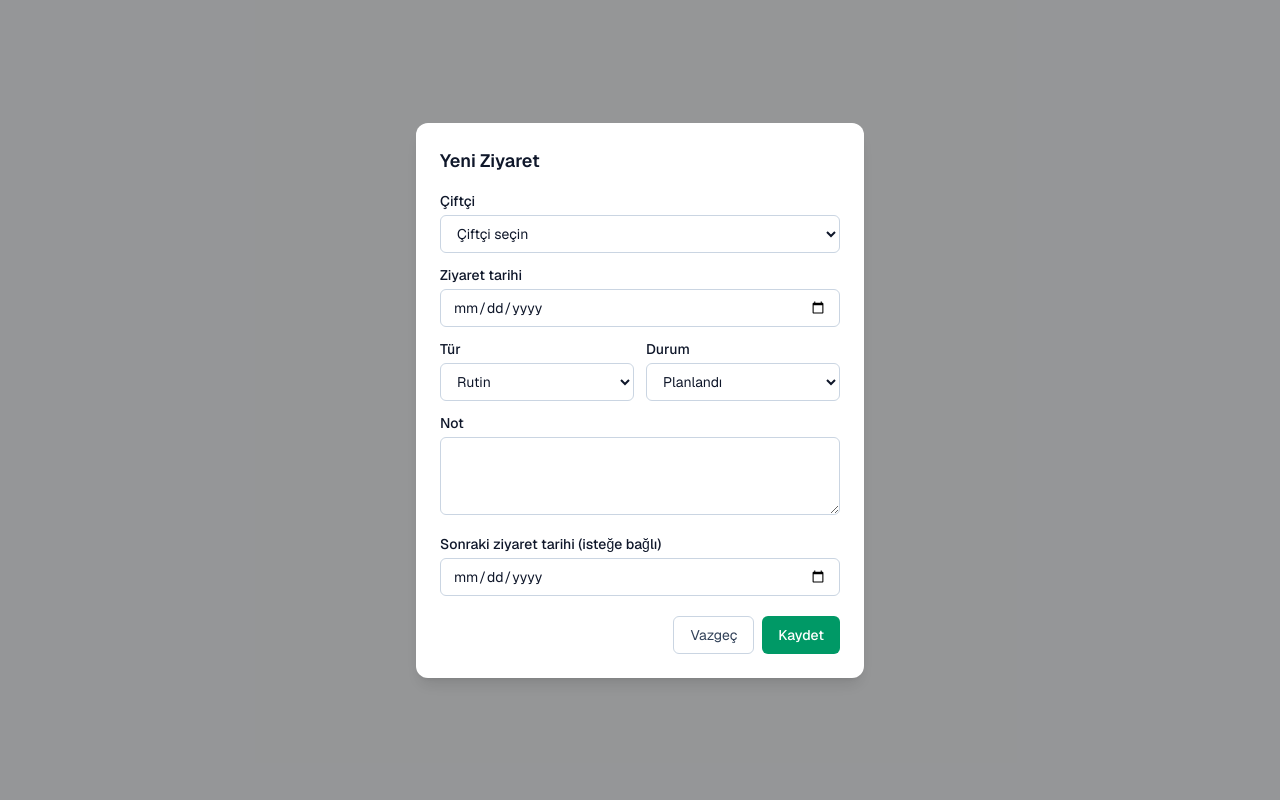
Scenario: VisitFormModal › gecmis tarihli planli ziyareti reddeder
In the date field labelled "Ziyaret tarihi": (640,308) [440,288,840,326], type "2020-01-01"
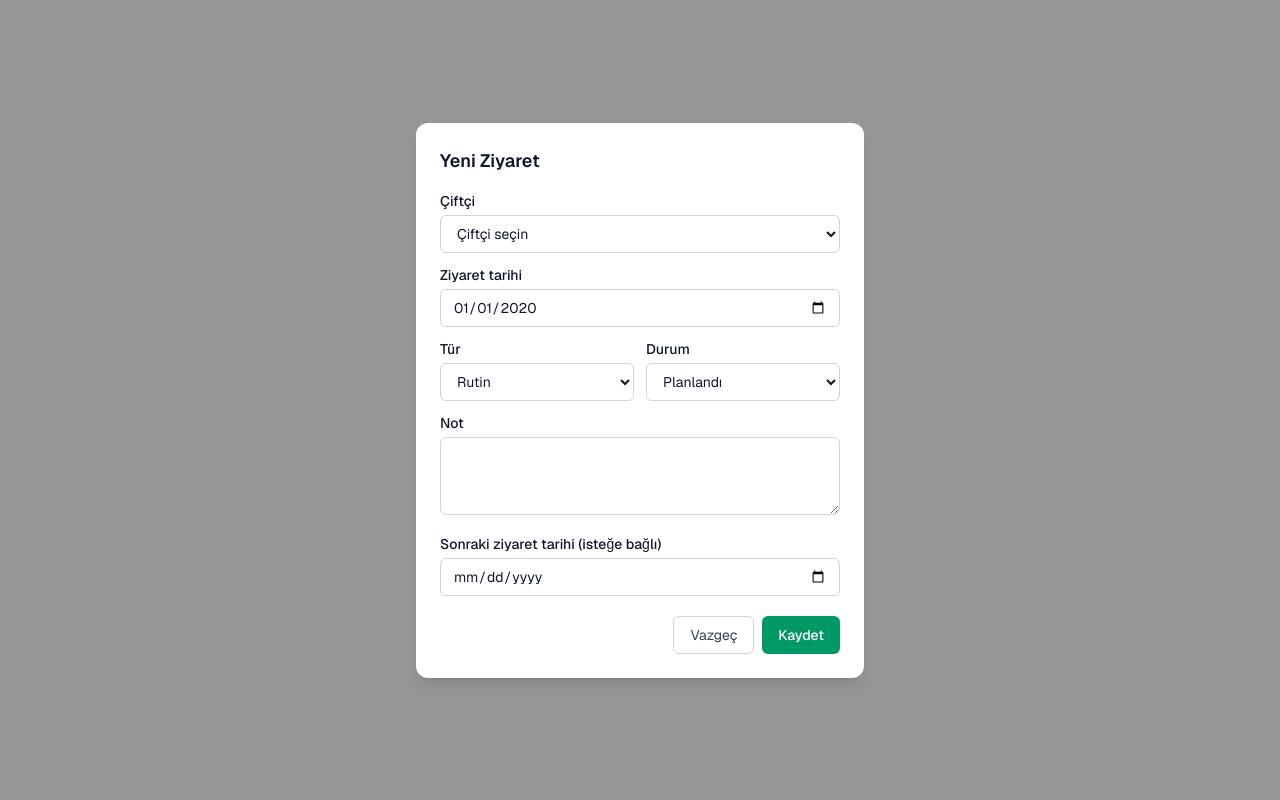
Click the button "Kaydet": (801,634) [762,616,840,654]
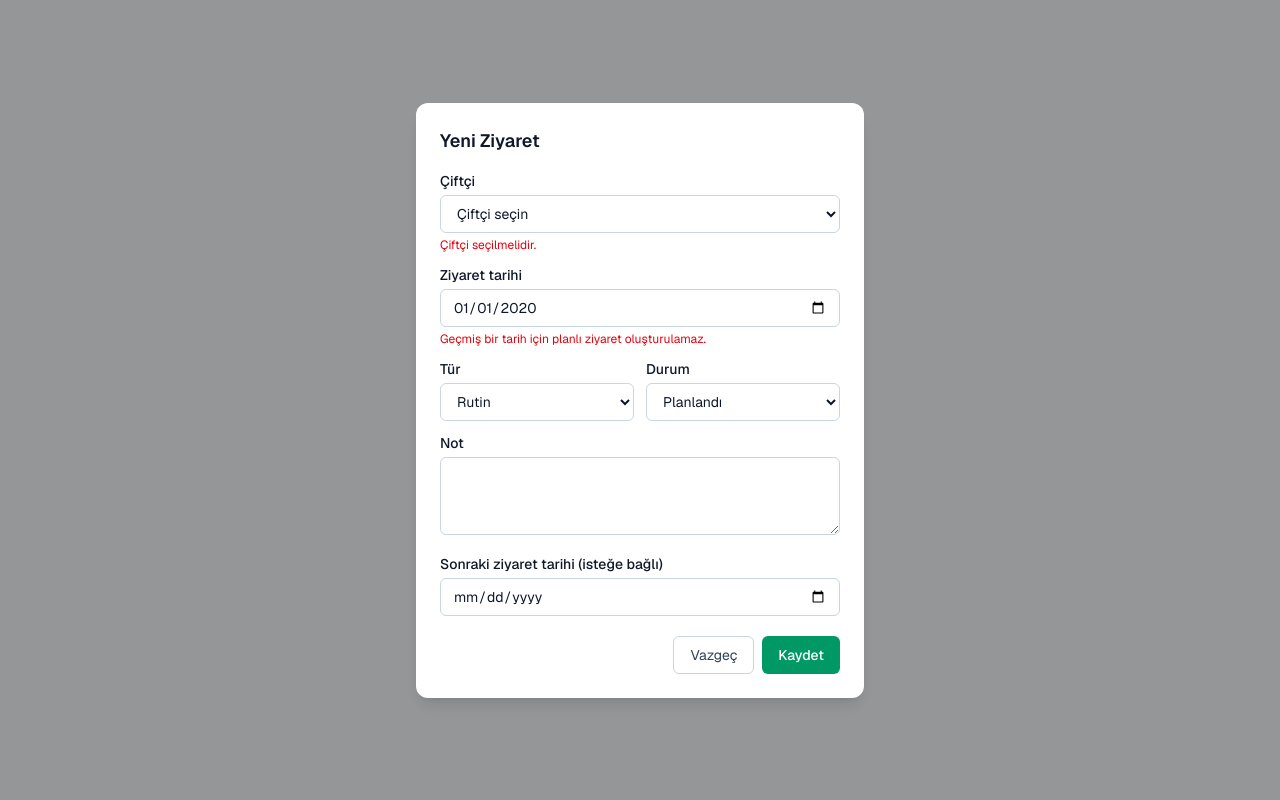
Result: the text "Geçmiş bir tarih için planlı ziyaret oluşturulamaz." is shown at [440,330,706,346]
